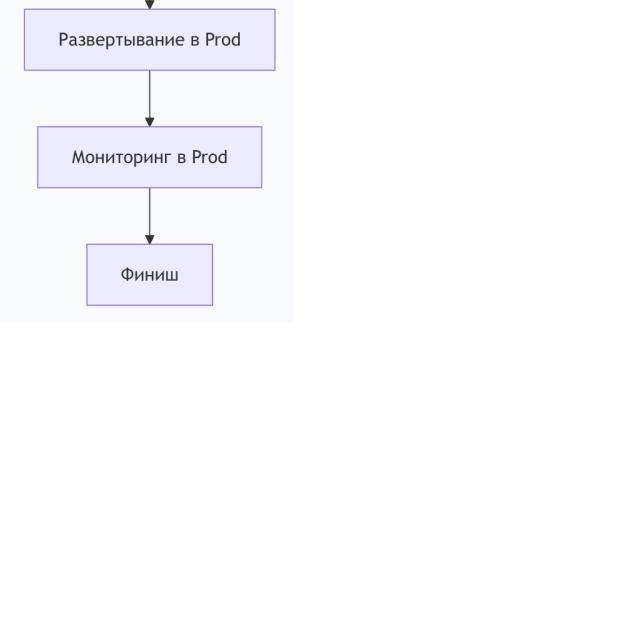arrow: (142, 188, 156, 244), (142, 72, 156, 126)
rectangle: (22, 7, 276, 72), (37, 126, 263, 188), (86, 243, 213, 306)
